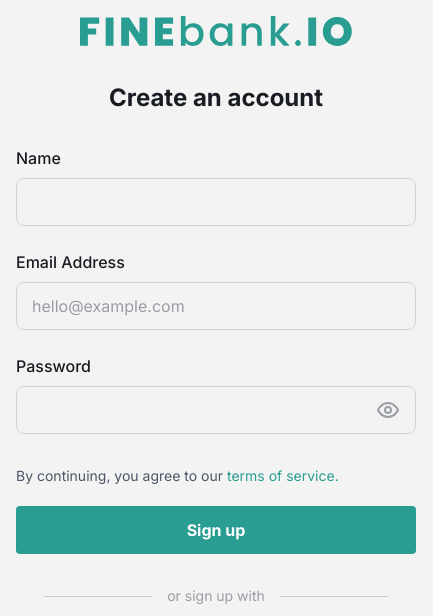
Test: field errors › shows the email format message and focuses Email
The image size is (433, 616).
Expected: the button "Sign up" is shown, [16,506,416,554]
In the field labelled "Name": (216, 202) [32,179,400,225], type "Tanzir Rahman"
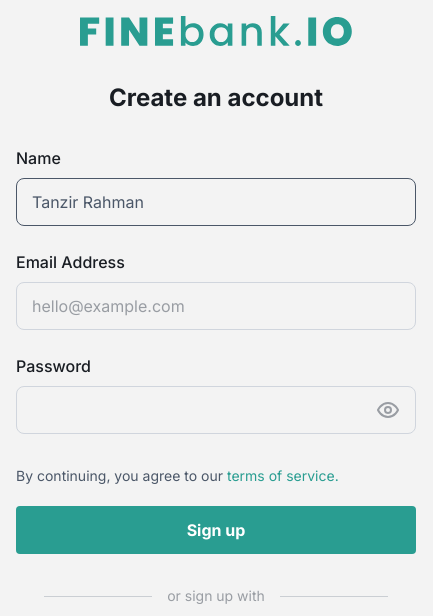
In the field labelled "Email Address": (216, 306) [32,283,400,329], type "a@b"
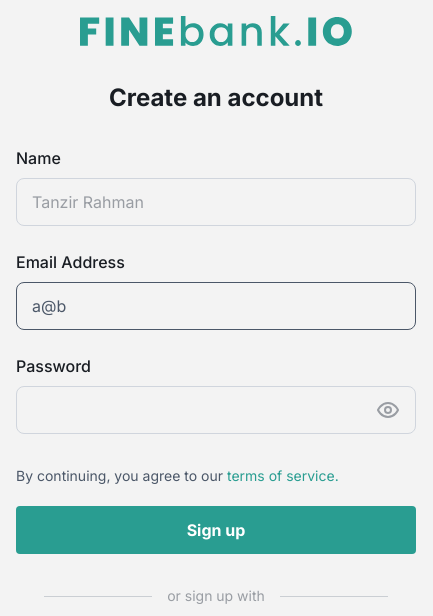
In the password field labelled "Password": (196, 410) [32,387,360,433], type "abcdef12"
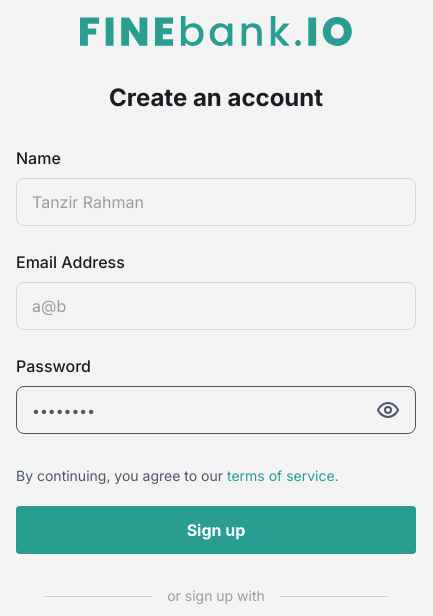
Click the button "Sign up": (216, 530) [16,506,416,554]
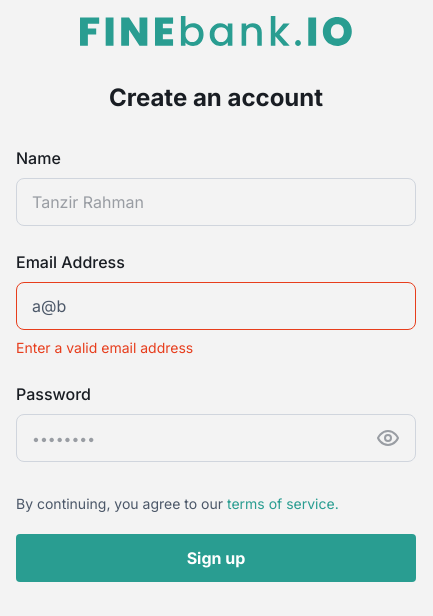
Result: the text "Enter a valid email address" is shown at [16,339,193,356]
